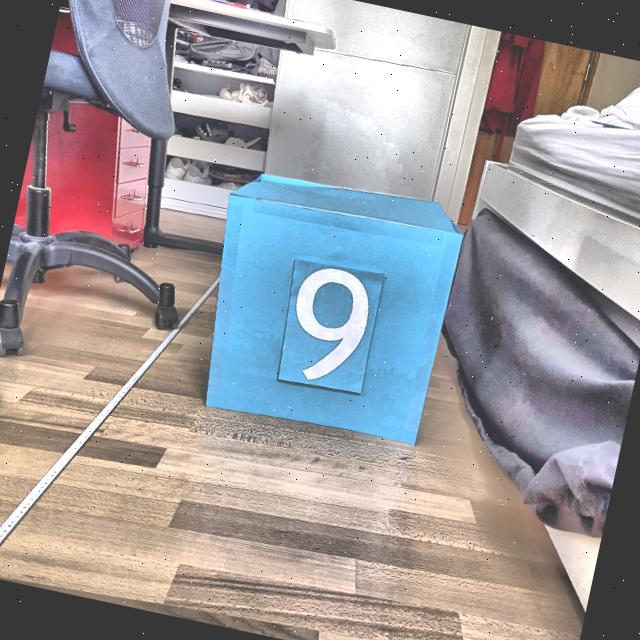blue box: (182, 156, 481, 456)
nine: (274, 256, 384, 394)
